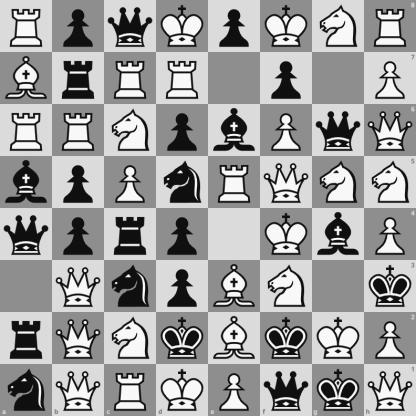B: (1, 53, 52, 104), (209, 261, 260, 312), (209, 313, 260, 364)
K: (156, 364, 209, 416), (157, 1, 208, 52), (261, 1, 312, 52), (261, 209, 312, 260), (313, 313, 364, 364)
N: (364, 156, 416, 209), (105, 105, 156, 156), (105, 313, 156, 364), (261, 261, 312, 312), (313, 1, 364, 52), (313, 157, 364, 208)
P: (364, 52, 416, 104), (364, 312, 416, 364), (209, 364, 260, 416), (364, 209, 416, 260), (105, 157, 156, 208), (261, 105, 312, 156)
Q: (52, 364, 104, 416), (364, 104, 416, 156), (364, 364, 416, 416), (53, 261, 104, 312), (53, 313, 104, 364), (261, 157, 312, 208)
R: (104, 364, 156, 416), (364, 0, 416, 52), (1, 1, 52, 52), (1, 105, 52, 156), (53, 105, 104, 156), (105, 53, 156, 104), (157, 53, 208, 104), (209, 157, 260, 208)
b: (1, 157, 52, 208), (209, 105, 260, 156), (313, 209, 364, 260)
board: (0, 0, 415, 415)
k: (312, 364, 364, 416), (364, 260, 416, 312), (157, 313, 208, 364), (261, 313, 312, 364)
n: (0, 364, 52, 416), (105, 261, 156, 312), (157, 157, 208, 208)
p: (53, 1, 104, 52), (53, 157, 104, 208), (53, 209, 104, 260), (157, 105, 208, 156), (157, 209, 208, 260), (157, 261, 208, 312), (209, 1, 260, 52), (261, 53, 312, 104)
q: (260, 364, 312, 416), (1, 209, 52, 260), (105, 1, 156, 52), (313, 105, 364, 156)
r: (1, 313, 52, 364), (53, 53, 104, 104), (105, 209, 156, 260)
